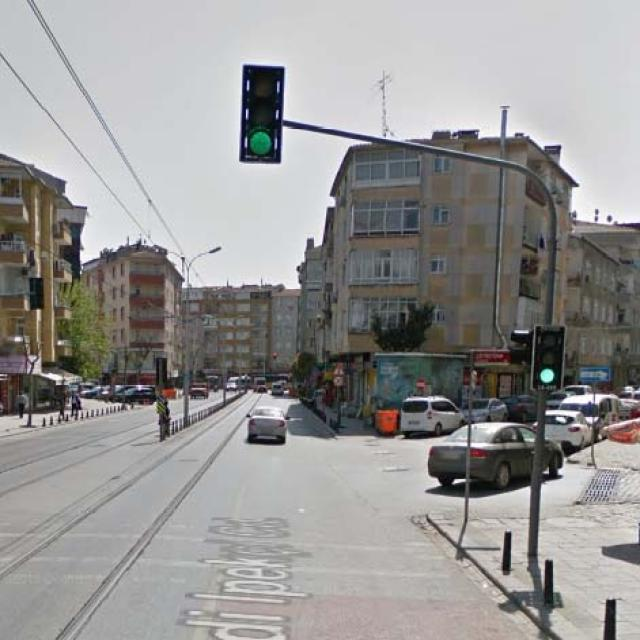yesil: (240, 64, 280, 160), (532, 325, 562, 391)
